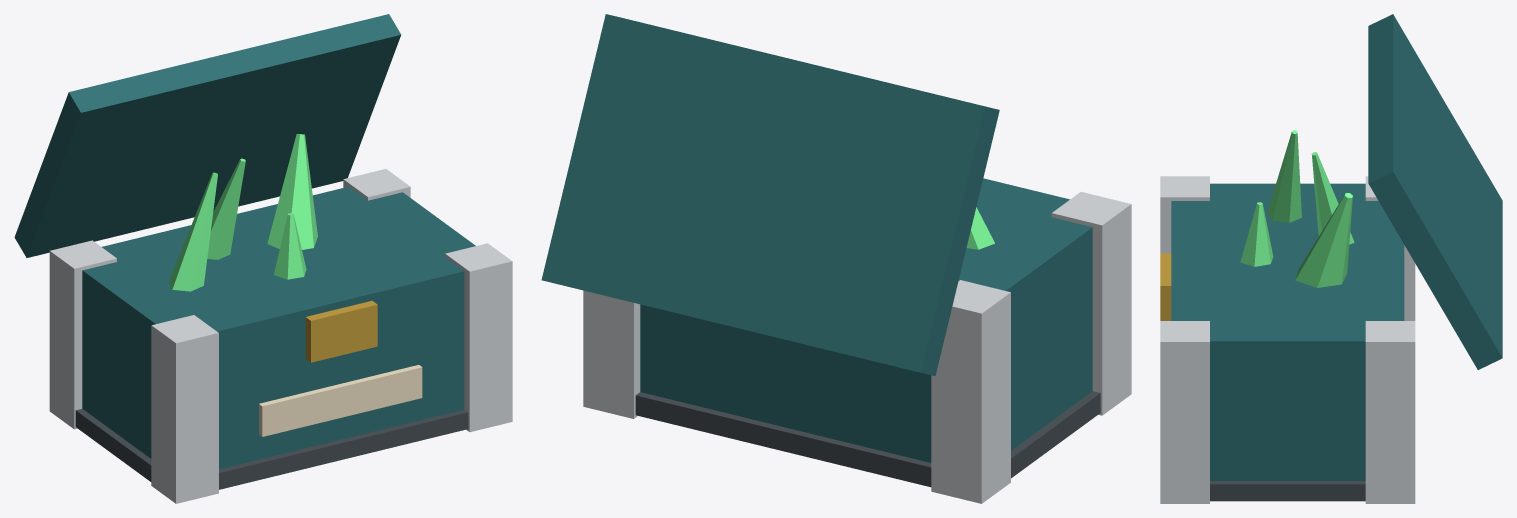
File: Prop_GlowshardChest.fbx
3 renders of one model, left to right at view 1: azimuth 30°, elevation 25°; view 2: azimuth 150°, elevation 25°; view 3: azimuth 270°, elevation 25°, orthographic. The views are drawn at different scales.
Visible parts, largest first — view 1: Base, Box, Shards; view 2: Base, Box, Shards; view 3: Base, Box, Shards.
Part boxes in pixels (x1,y1,x2,y2): Base: (14,14,512,503); Box: (82,186,475,469); Shards: (169,134,317,291); Base: (541,14,1131,503); Box: (640,178,1092,462); Shards: (966,207,994,249); Base: (1160,14,1502,503); Box: (1171,183,1404,480); Shards: (1240,130,1354,287).
Size of the model in its own units: 2.52 by 2.33 by 2.2.
